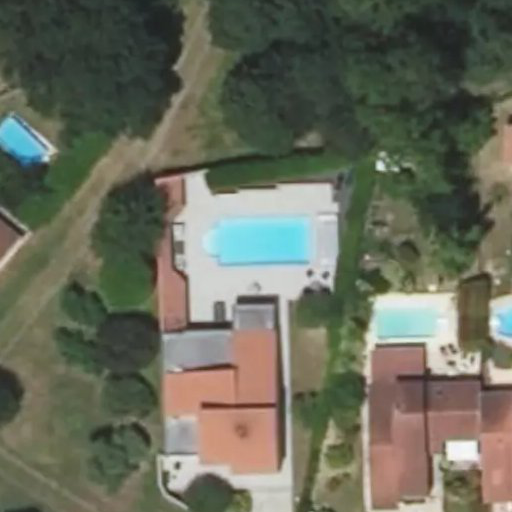pool: (201, 221, 309, 263)
